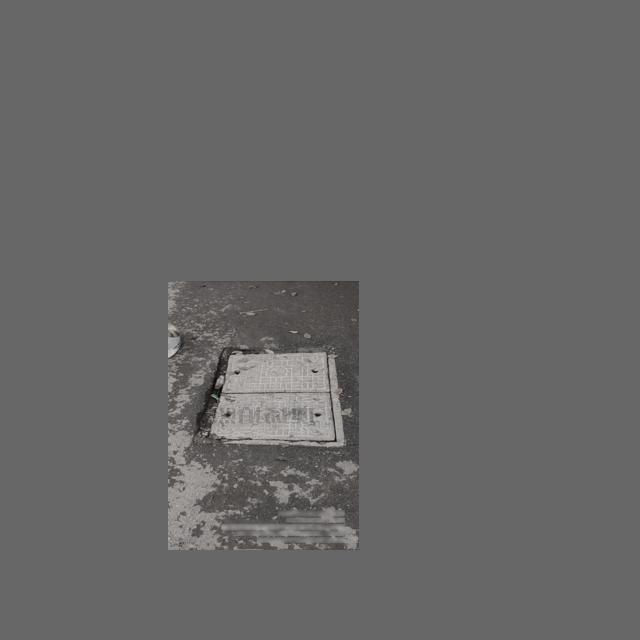circle: (192, 347, 344, 446)
